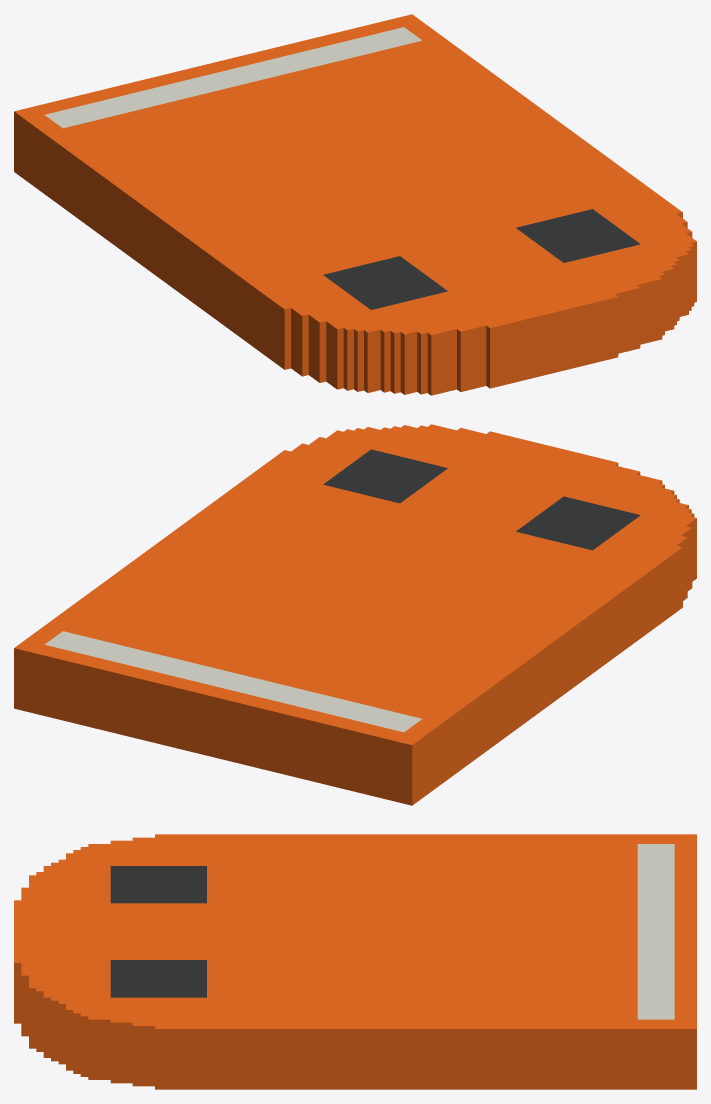
Rendered from swimming_kickboard.glb.
3 renders of one model, top to bottom at view 1: azimuth 30°, elevation 25°; view 2: azimuth 150°, elevation 25°; view 3: azimuth 270°, elevation 25°, orthographic.
Parts seen in each view (by area): view 1: swimming_kickboard:compound; view 2: swimming_kickboard:compound; view 3: swimming_kickboard:compound.
Part boxes in pixels (bbox=[...]): swimming_kickboard:compound: bbox=[14, 14, 696, 395]; swimming_kickboard:compound: bbox=[14, 424, 696, 805]; swimming_kickboard:compound: bbox=[14, 834, 696, 1089].
Size of the model in its own units: 0.248 by 0.036 by 0.368.
